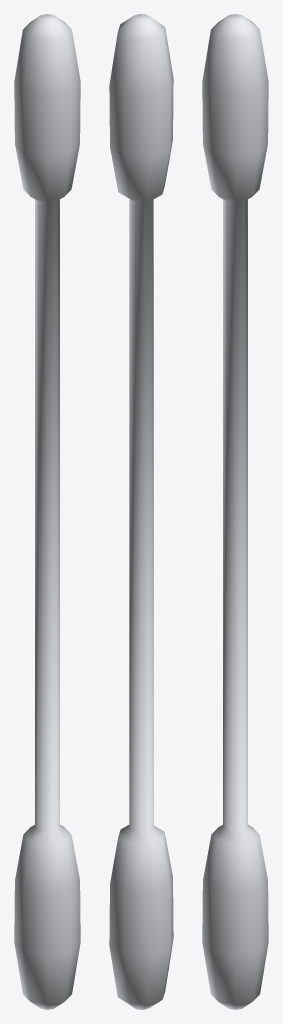
The model's file is cotton-swab.glb.
The picture shows the model from 3 angles, left to right: view 1: azimuth 90°, elevation 25°; view 2: azimuth 150°, elevation 25°; view 3: azimuth 270°, elevation 25°; orthographic projection.
Parts seen in each view (by area): view 1: cleaning_cotton_tip; view 2: cleaning_cotton_tip; view 3: cleaning_cotton_tip.
Part boxes in pixels (bbox=[...]): cleaning_cotton_tip: bbox=[14, 14, 80, 1009]; cleaning_cotton_tip: bbox=[109, 14, 173, 1009]; cleaning_cotton_tip: bbox=[202, 14, 268, 1009].
Size of the model in its own units: 0.812 by 13.34 by 0.812.
Materials: 1 (1 with a texture image).
